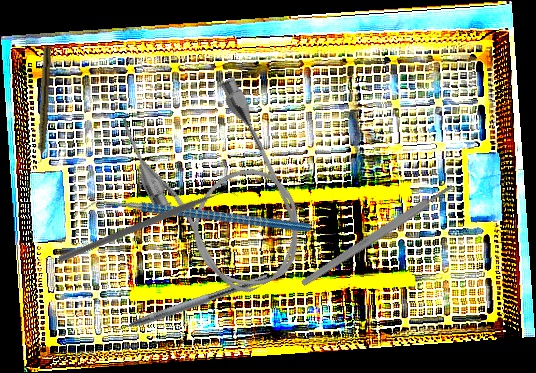Cannula: (112, 65, 325, 314)
Chopper: (77, 130, 313, 308), (57, 131, 242, 326), (99, 262, 270, 341)
Handpiece: (35, 46, 52, 164)
Scalpel Handle: (299, 182, 456, 288)
